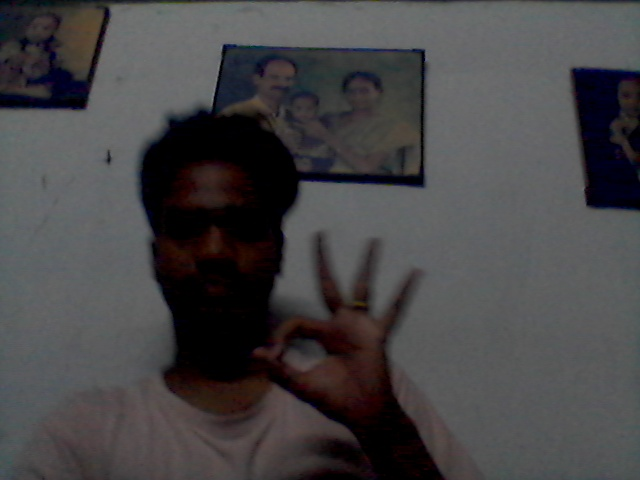Not Ok: (247, 226, 432, 441)
